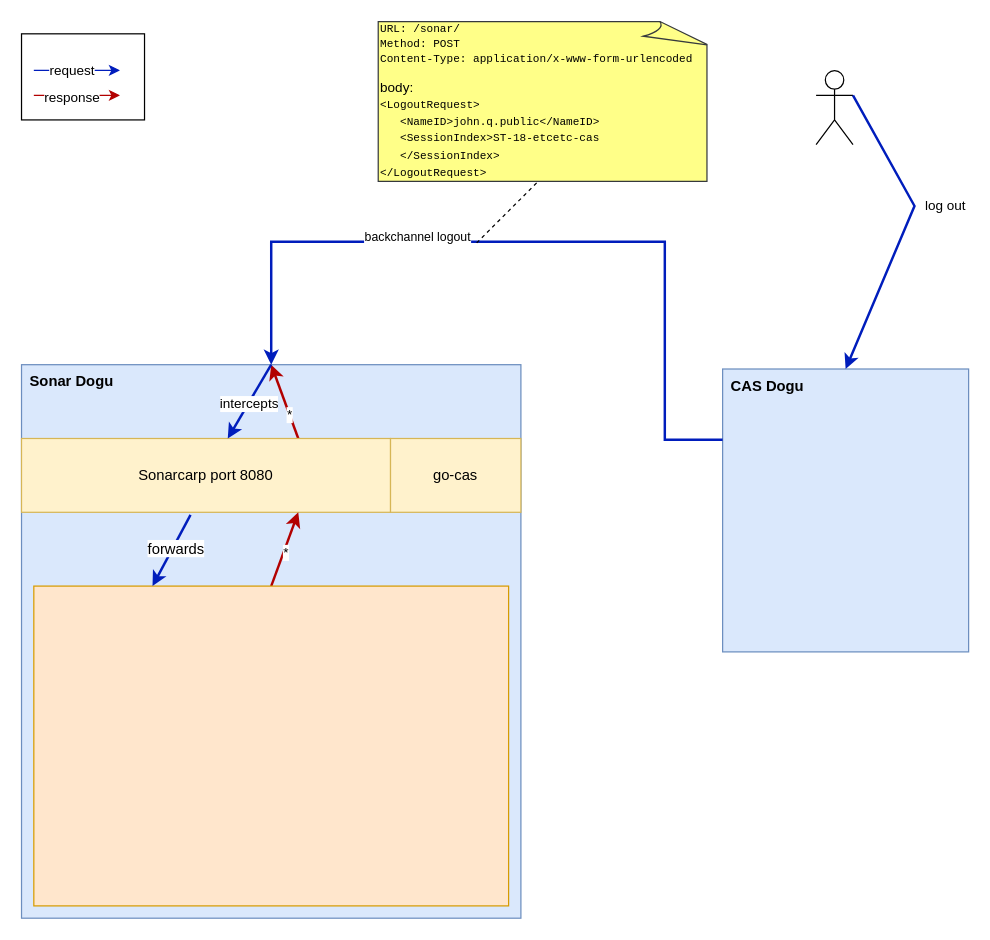
The diagram is 990 pixels wide and 940 high, and some of its shapes have lost their labels. Here are the shapes that lost their labels. From the top down, the centre of each, then its label:
At [82,76]: "Legend".
At [834,107]: "Browser".
At [271,745]: "SonarQube port 9000".
